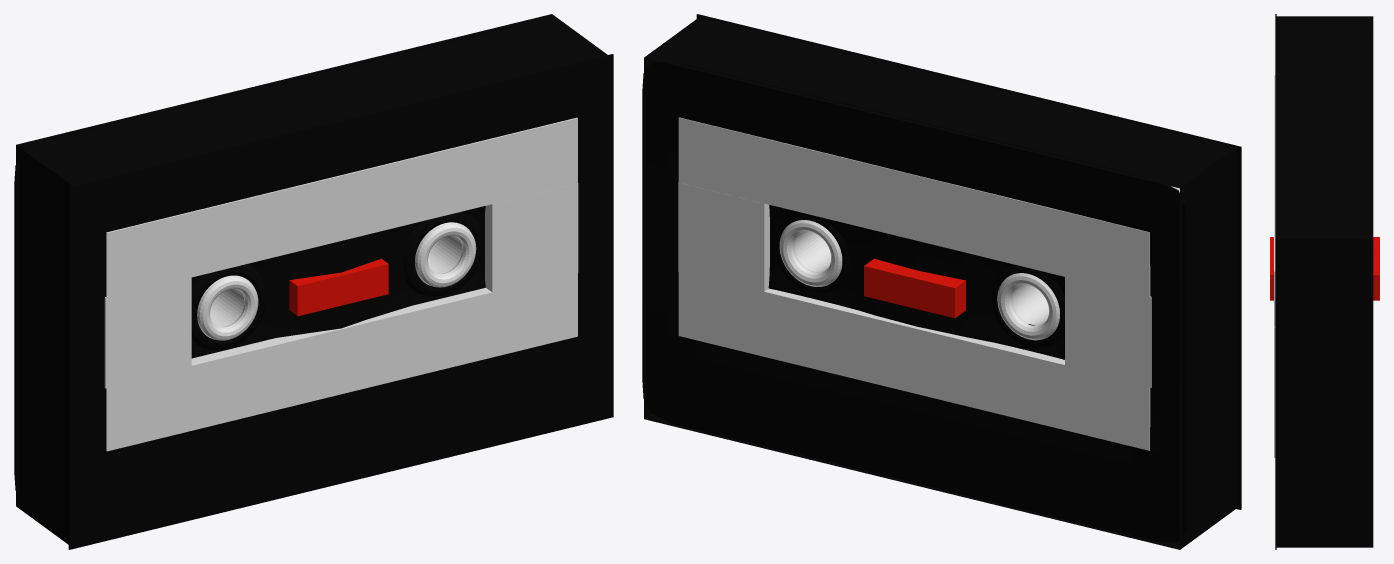
The model's file is Casette-forImage.fbx.
3 views of the same model, side by side, from view 1: azimuth 30°, elevation 25°; view 2: azimuth 150°, elevation 25°; view 3: azimuth 270°, elevation 25° (orthographic). The views are drawn at different scales.
Parts seen in each view (by area): view 1: Grid.001, Cube.003, Cube, Cube.001, Torus, Torus.001, Grid, Torus.002, Torus.003; view 2: Grid, Cube.003, Cube, Cube.001, Grid.001, Torus.001, Torus, Torus.003, Torus.002; view 3: Cube, Grid, Grid.001, Cube.003, Cube.001.
Boxes of the visible parts, x1=… form: Grid.001: x1=68, y1=54, x2=613, y2=549; Cube.003: x1=104, y1=117, x2=578, y2=451; Cube: x1=16, y1=14, x2=607, y2=544; Cube.001: x1=289, y1=258, x2=388, y2=316; Torus: x1=197, y1=275, x2=258, y2=340; Torus.001: x1=415, y1=222, x2=476, y2=287; Grid: x1=14, y1=23, x2=523, y2=494; Torus.002: x1=403, y1=212, x2=483, y2=296; Torus.003: x1=191, y1=264, x2=266, y2=350; Grid: x1=642, y1=61, x2=1187, y2=541; Cube.003: x1=678, y1=117, x2=1179, y2=450; Cube: x1=644, y1=16, x2=1236, y2=549; Cube.001: x1=864, y1=258, x2=965, y2=318; Grid.001: x1=696, y1=14, x2=1241, y2=509; Torus.001: x1=779, y1=220, x2=842, y2=286; Torus: x1=997, y1=273, x2=1059, y2=340; Torus.003: x1=990, y1=266, x2=1064, y2=347; Torus.002: x1=774, y1=215, x2=849, y2=292; Cube: x1=1276, y1=16, x2=1373, y2=547; Grid: x1=1367, y1=29, x2=1369, y2=536; Grid.001: x1=1275, y1=14, x2=1276, y2=549; Cube.003: x1=1274, y1=75, x2=1275, y2=457; Cube.001: x1=1270, y1=237, x2=1379, y2=300.
Size of the model in its own units: 371 by 236 by 75.95.
